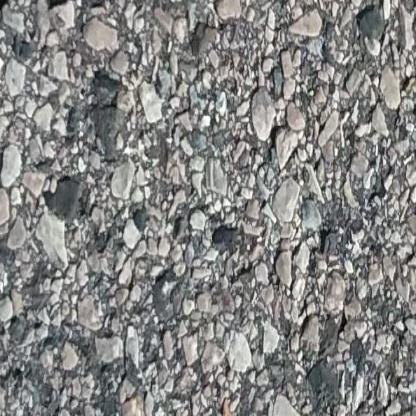Cracks: (0, 0, 133, 29)
